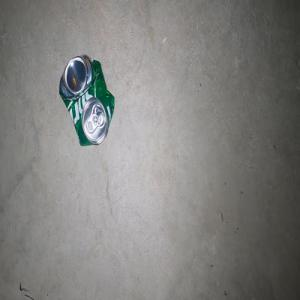SodaCan: (59, 53, 114, 146)
